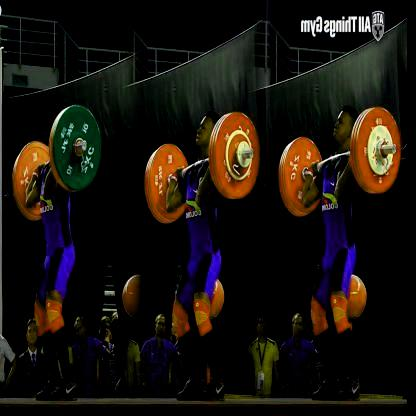Barbell: (244, 147, 254, 164), (387, 144, 397, 157), (79, 138, 87, 153)
